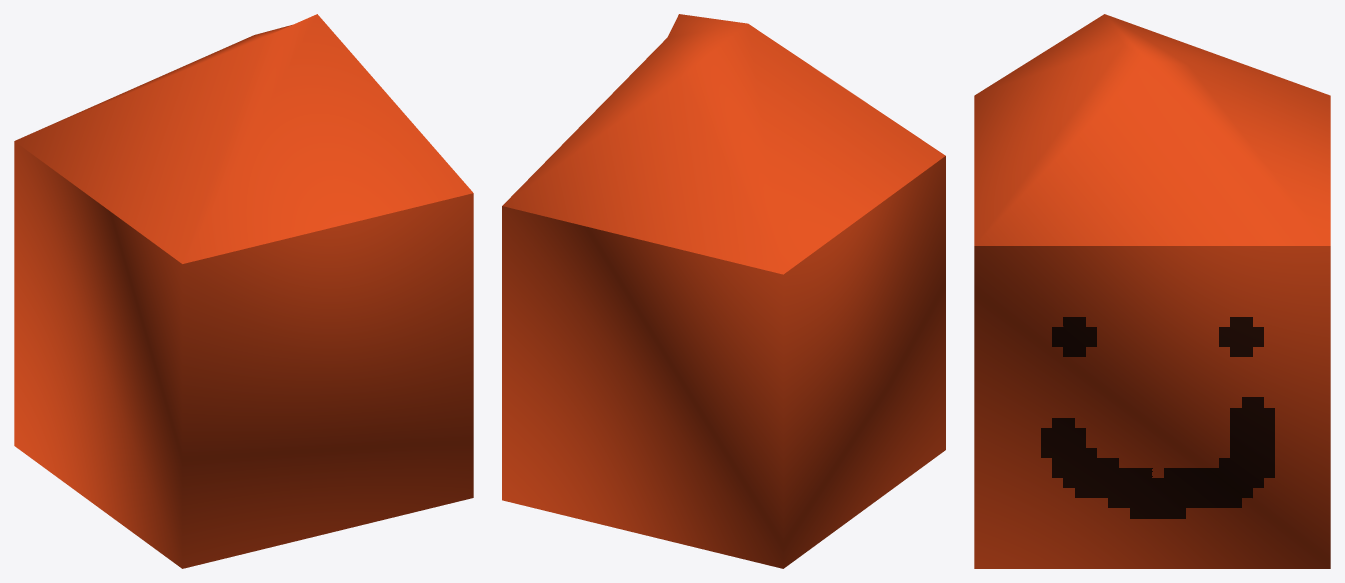
Rendered from cubeman.fbx.
The picture shows the model from 3 angles, left to right: view 1: azimuth 30°, elevation 25°; view 2: azimuth 150°, elevation 25°; view 3: azimuth 270°, elevation 25°; orthographic projection. The views are drawn at different scales.
Visible parts, largest first — view 1: Cube; view 2: Cube; view 3: Cube.
Boxes of the visible parts, box(x1,y1,x2,y2) form: Cube: box(14, 14, 473, 568); Cube: box(502, 14, 945, 568); Cube: box(974, 14, 1330, 568).
Bounding box in the file's own units: 1 × 1.49 × 1.
